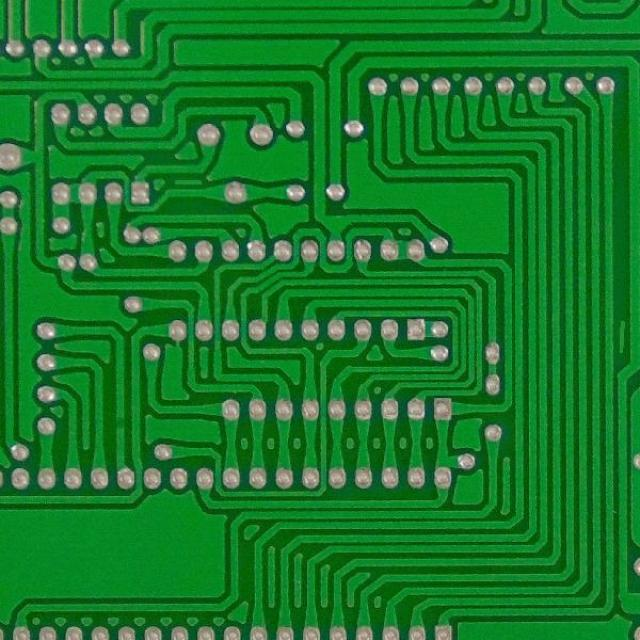spurious_copper: (170, 174, 208, 191), (612, 315, 627, 356)
